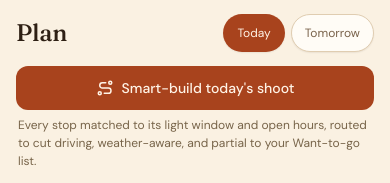
Plan — the day toggle and the build CTA › switches the CTA between today and tomorrow
Expected: the button "Smart-build today's shoot" is shown, [16,66,374,110]
Click the button "Tomorrow" at (332,33), box [291,14,374,52]
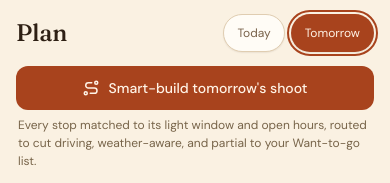
Expected: the button "Smart-build tomorrow's shoot" is shown, [16,66,374,110]
Click the button "Today" at (254,33), box [223,14,285,52]
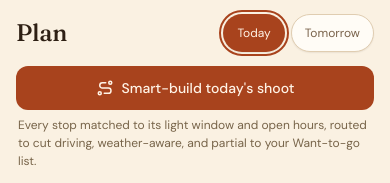
Expected: the button "Smart-build today's shoot" is shown, [16,66,374,110]
